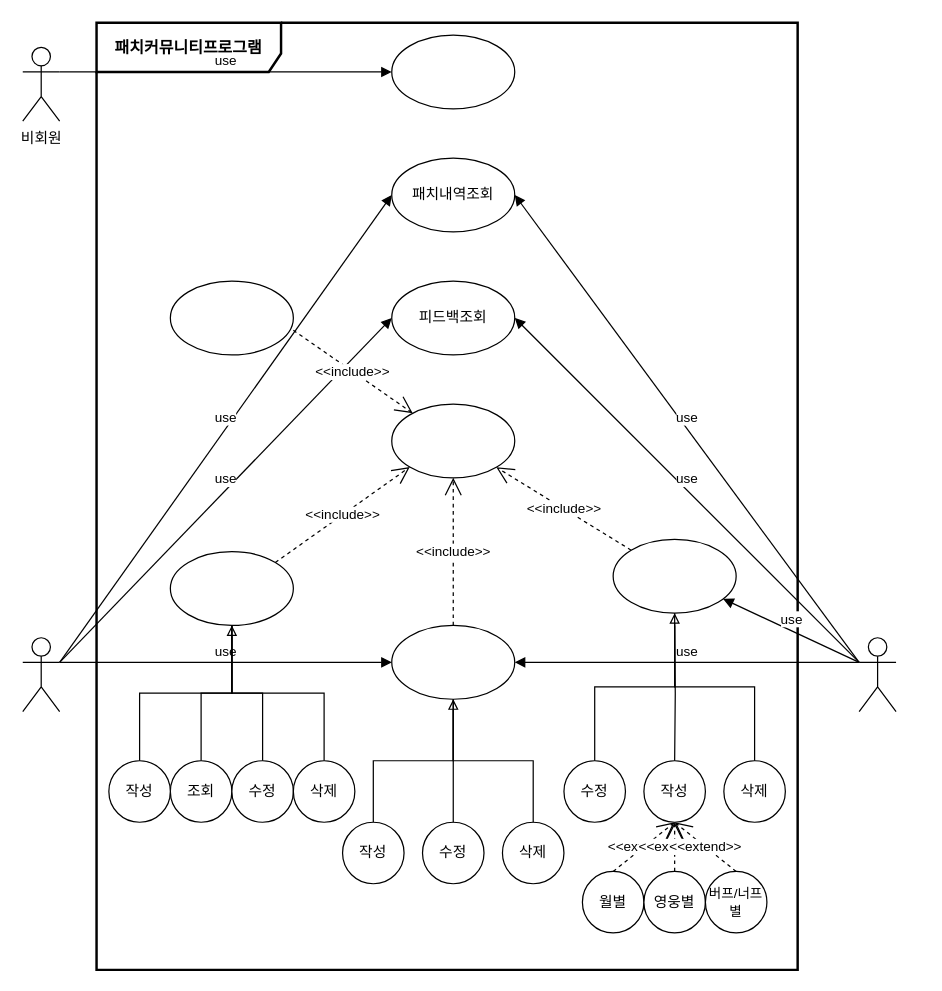
The diagram is 942 pixels wide and 991 high, and some of its shapes have lost their labels. The box of each missing label's shape, as (x1, y1, x2, y2) in pixels:
개발자/관리자: (858, 637, 896, 712)
나의정보: (169, 550, 293, 625)
로그아웃: (169, 280, 293, 355)
로그인: (391, 403, 515, 478)
패치서비스: (612, 538, 736, 613)
피드백서비스: (391, 624, 515, 699)
회원: (22, 637, 60, 712)
회원가입: (391, 34, 515, 109)
